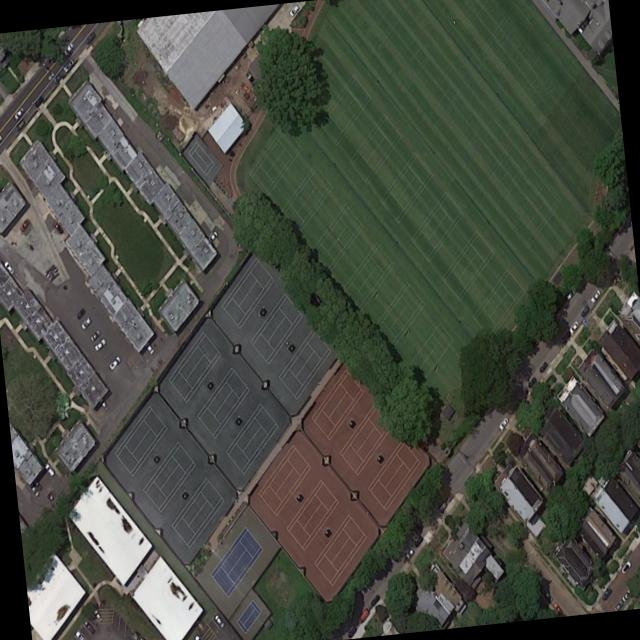small-vehicle: (357, 604, 370, 623), (61, 55, 74, 73), (12, 116, 26, 132), (108, 352, 121, 369), (83, 617, 96, 634), (590, 286, 602, 304), (51, 68, 64, 84), (83, 28, 96, 44), (497, 413, 509, 430), (43, 460, 55, 477), (212, 611, 224, 628), (620, 557, 632, 573), (93, 336, 106, 350), (600, 585, 612, 600), (18, 216, 30, 231), (12, 105, 24, 120), (62, 40, 74, 55), (97, 394, 109, 409), (3, 258, 14, 274), (28, 481, 39, 497), (542, 588, 554, 602), (52, 220, 64, 234), (288, 2, 300, 16), (411, 532, 423, 546), (80, 314, 91, 329), (143, 339, 154, 354), (346, 622, 357, 637), (579, 302, 590, 317), (88, 328, 100, 341), (74, 628, 87, 640), (568, 318, 579, 332), (31, 476, 42, 490), (34, 92, 44, 107), (92, 606, 102, 621), (552, 601, 563, 614), (622, 586, 632, 600), (526, 374, 536, 388), (75, 306, 85, 319), (371, 591, 380, 605), (208, 229, 218, 241), (538, 359, 548, 371), (405, 547, 415, 558), (565, 289, 574, 300), (193, 633, 202, 640)
